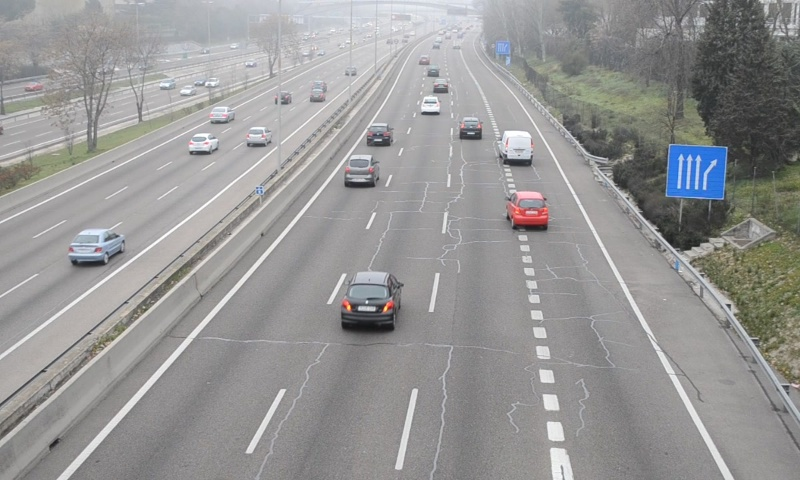car: (341, 272, 399, 328), (508, 190, 548, 228), (344, 154, 377, 184), (366, 124, 393, 147), (458, 116, 483, 139), (419, 94, 442, 114), (434, 76, 446, 92)
van: (500, 129, 534, 164)
